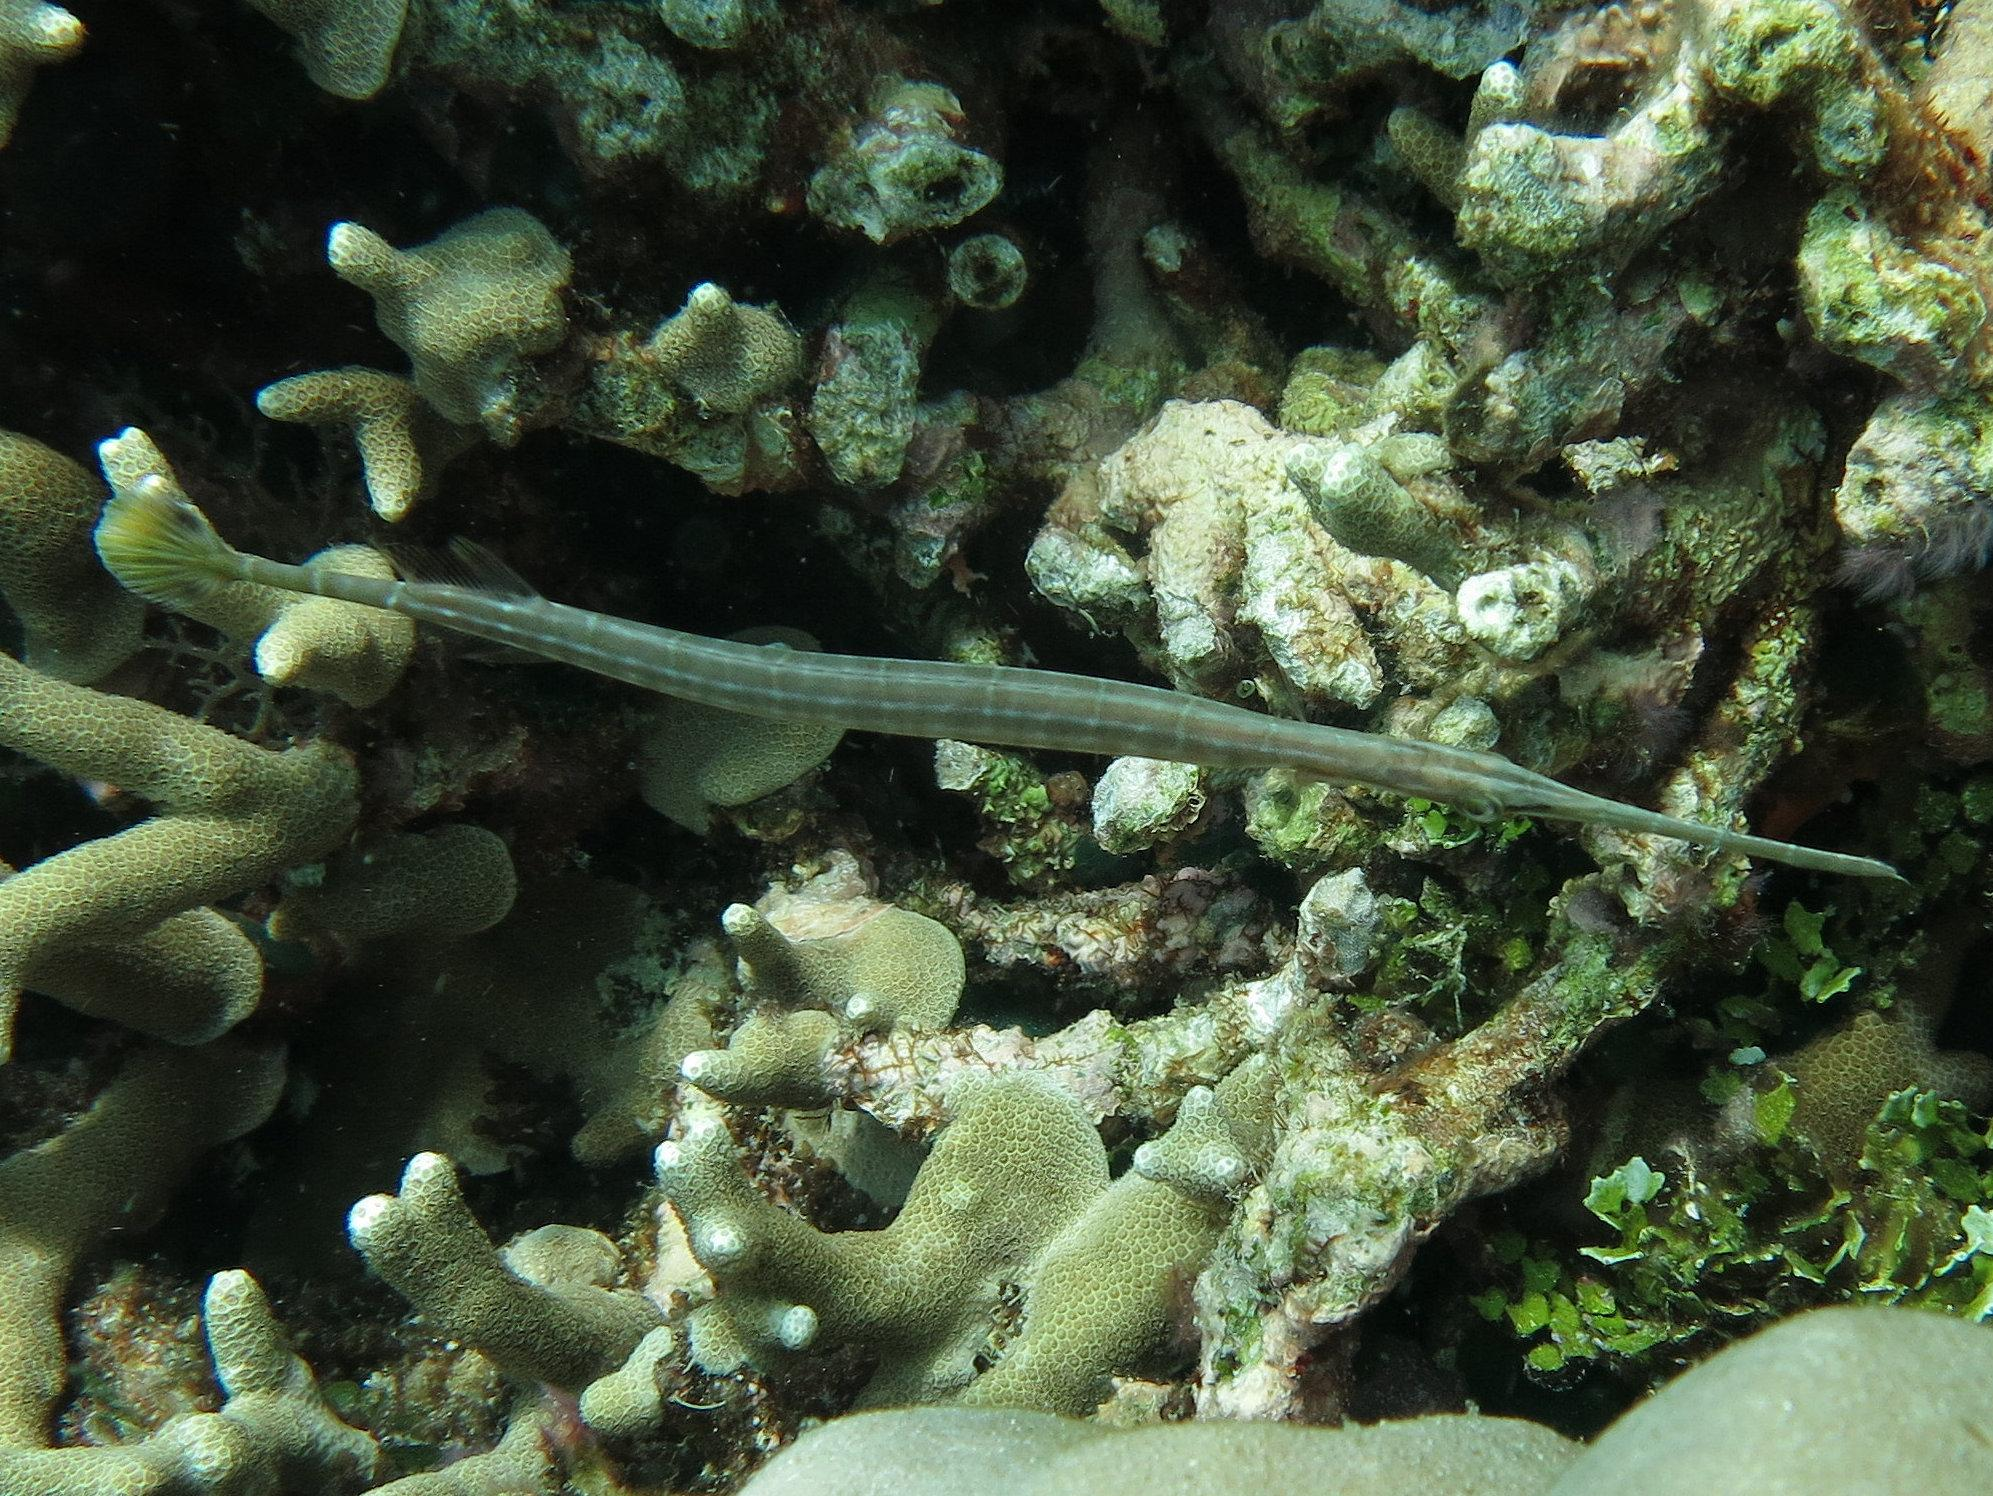Fistularia commersonii: (88, 423, 1913, 891)
